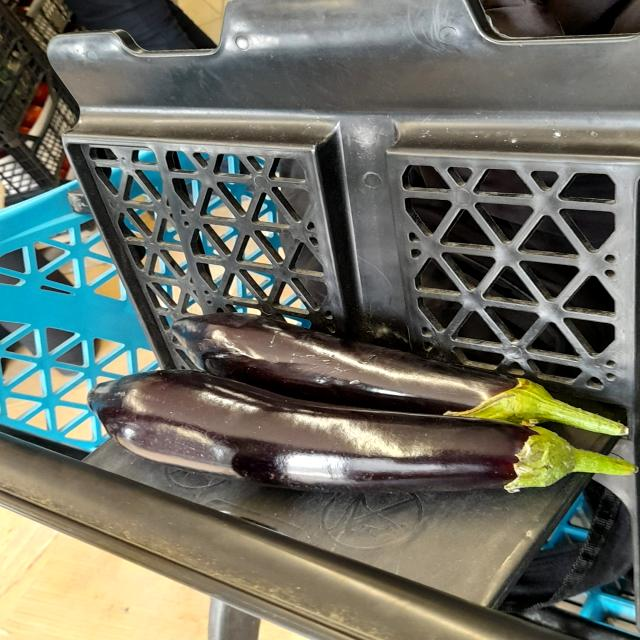eggplant: (69, 366, 640, 496), (167, 301, 640, 439)
